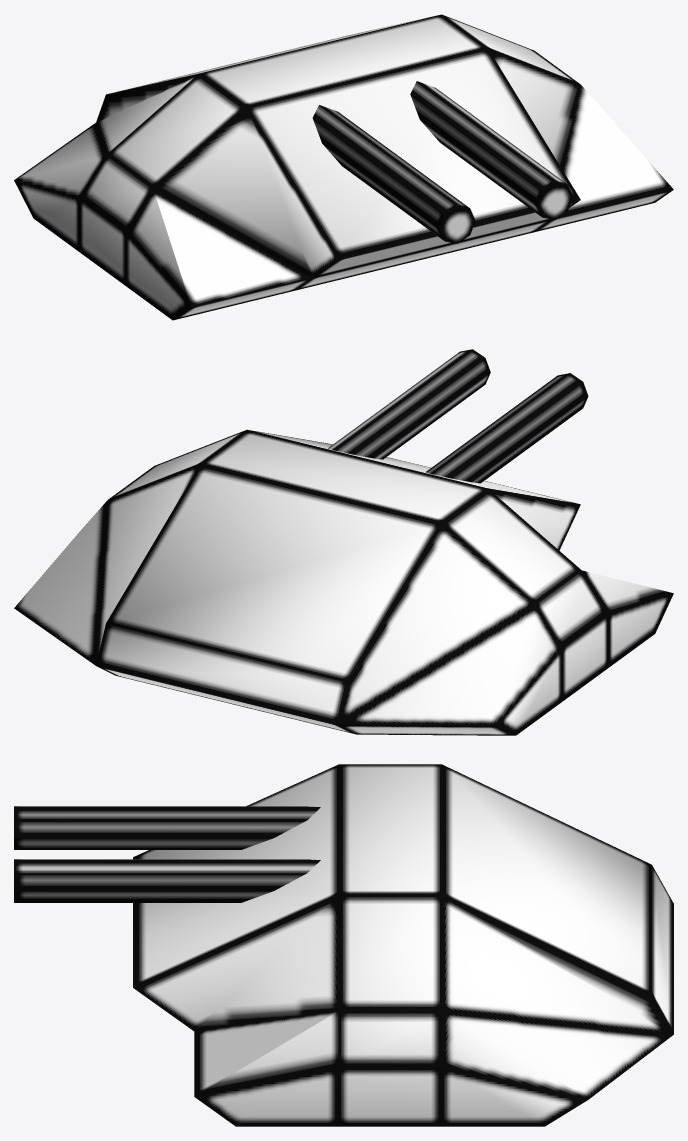
Rendered from Tank2.obj.
3 renders of one model, top to bottom at view 1: azimuth 30°, elevation 25°; view 2: azimuth 150°, elevation 25°; view 3: azimuth 270°, elevation 25°, orthographic. The views are drawn at different scales.
Visible parts, largest first — view 1: Box14; view 2: Box14; view 3: Box14.
Boxes of the visible parts, x1,y1,x2,y2 form: Box14: [14, 14, 673, 320]; Box14: [14, 349, 673, 735]; Box14: [14, 764, 673, 1126].
Bounding box in the file's own units: 4 × 1.19 × 4.27.
1 material, 1 textured.
